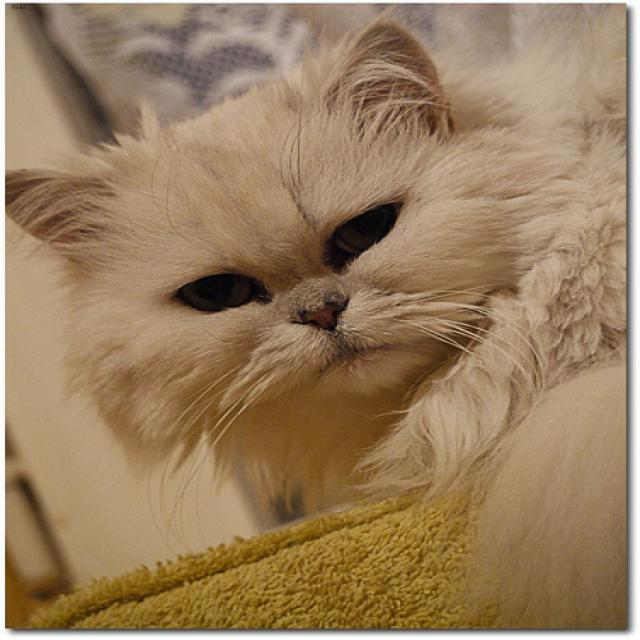cat: (4, 19, 478, 392)
